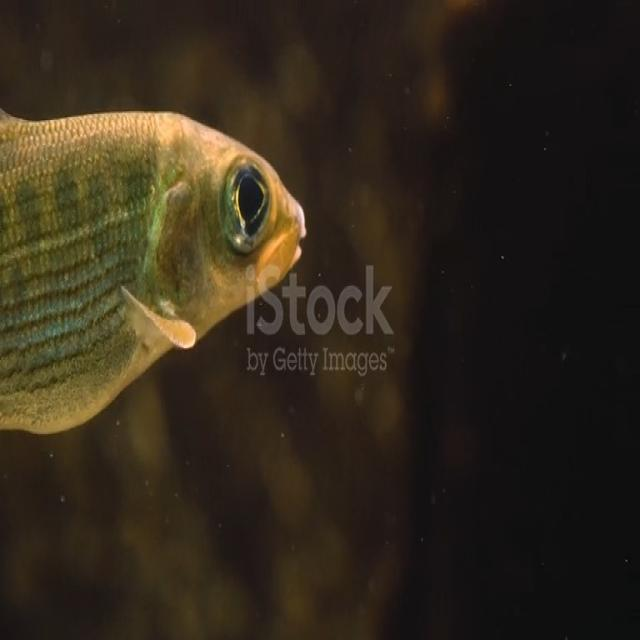fish: (0, 96, 308, 440)
